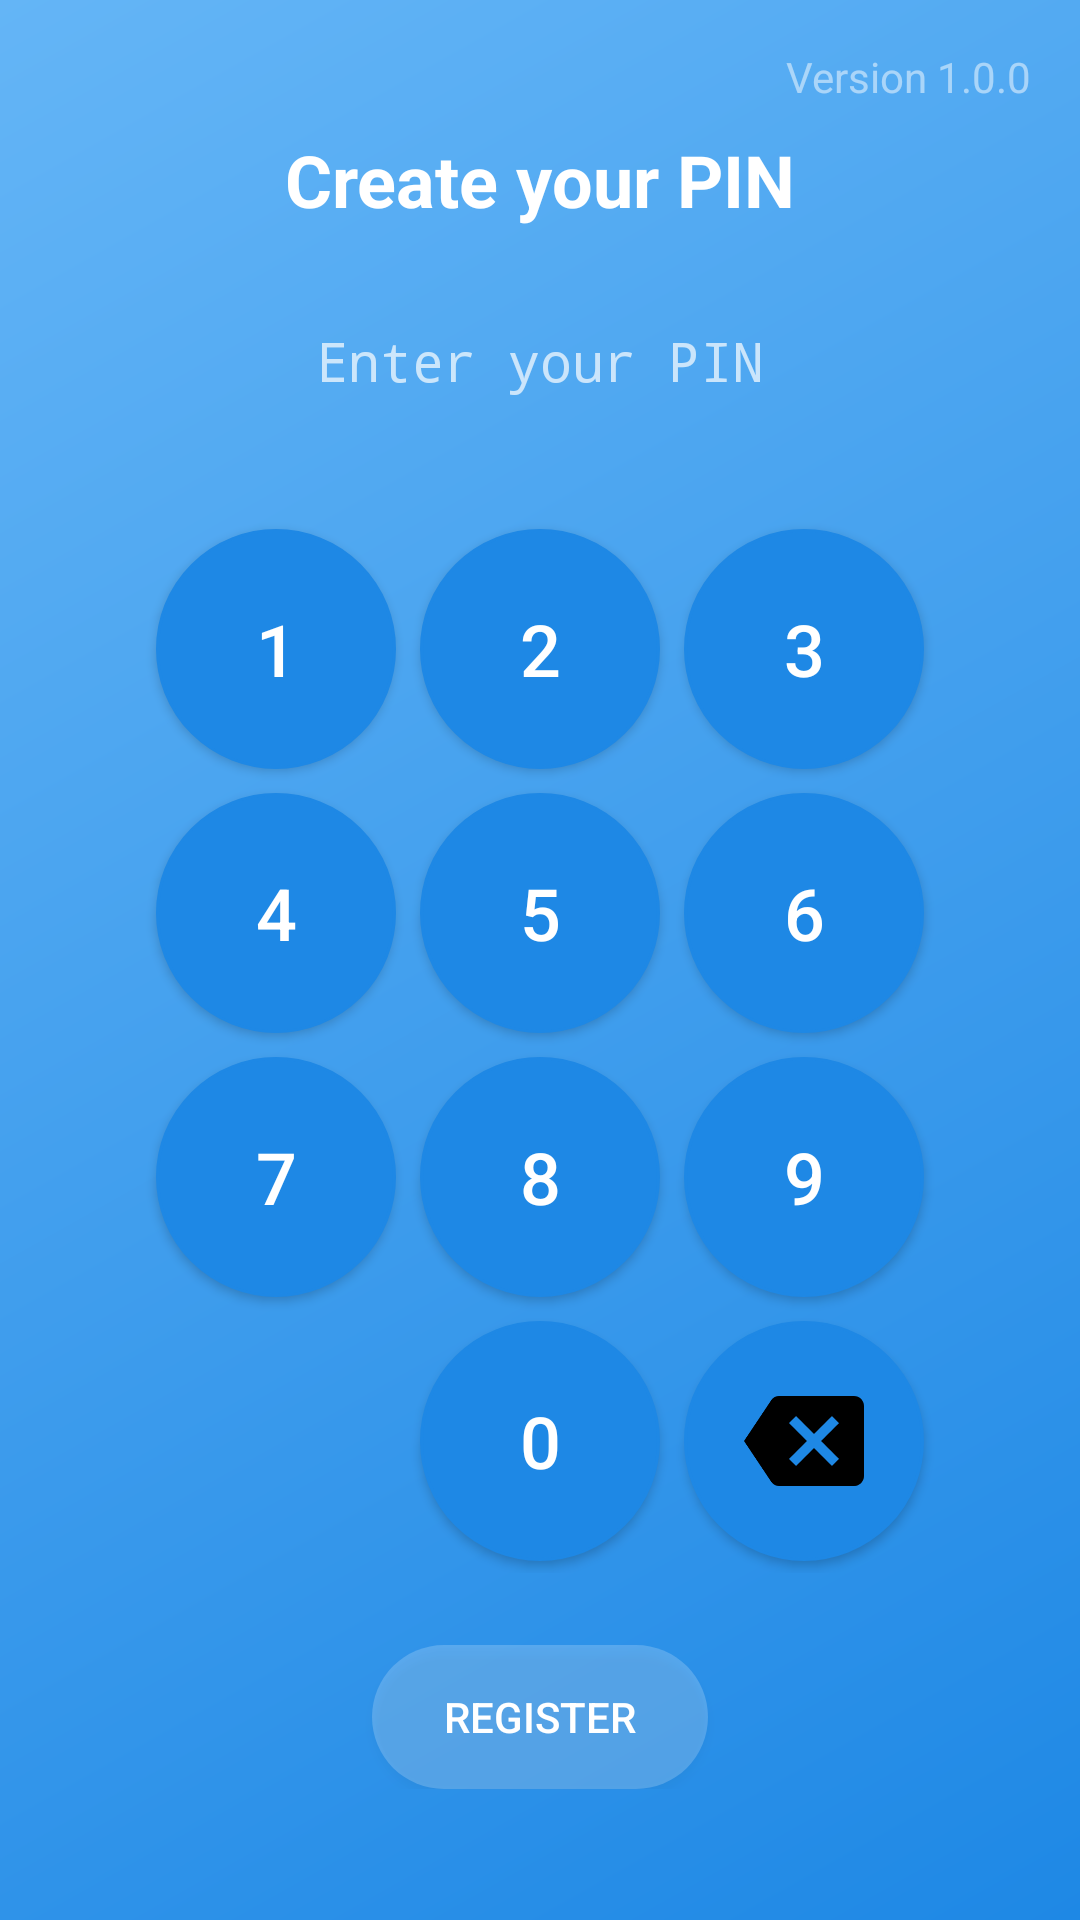

Screen size 1080w x 1920h. Icon name, then its center in pixels as (x=x, y=y):
Delete: (x=804, y=1441)
